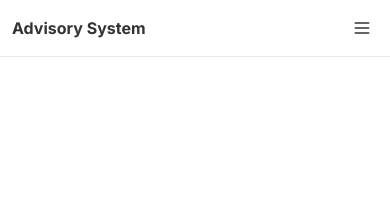
Test: DashboardHeader Component › should toggle mobile menu when clicking menu button
This screenshot has width=390, height=207.
Check: the text "Edit Profil" is not shown
# Click to open menu
Click the button named "Toggle menu".
click(362, 28)  # box [346,12,378,44]
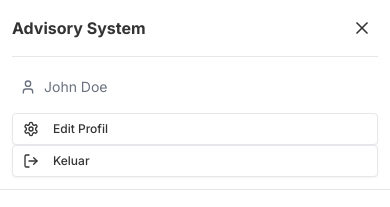
Check: the button "Edit Profil" is shown, box [12,113,378,145]
